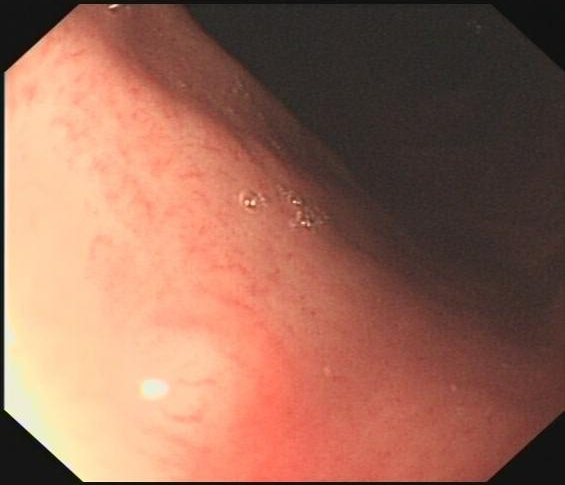Polyp: (106, 302, 299, 473)
